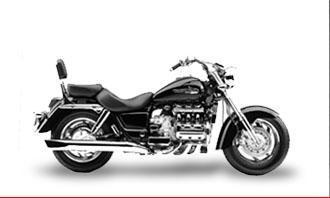motorcycle: (35, 55, 300, 180)
